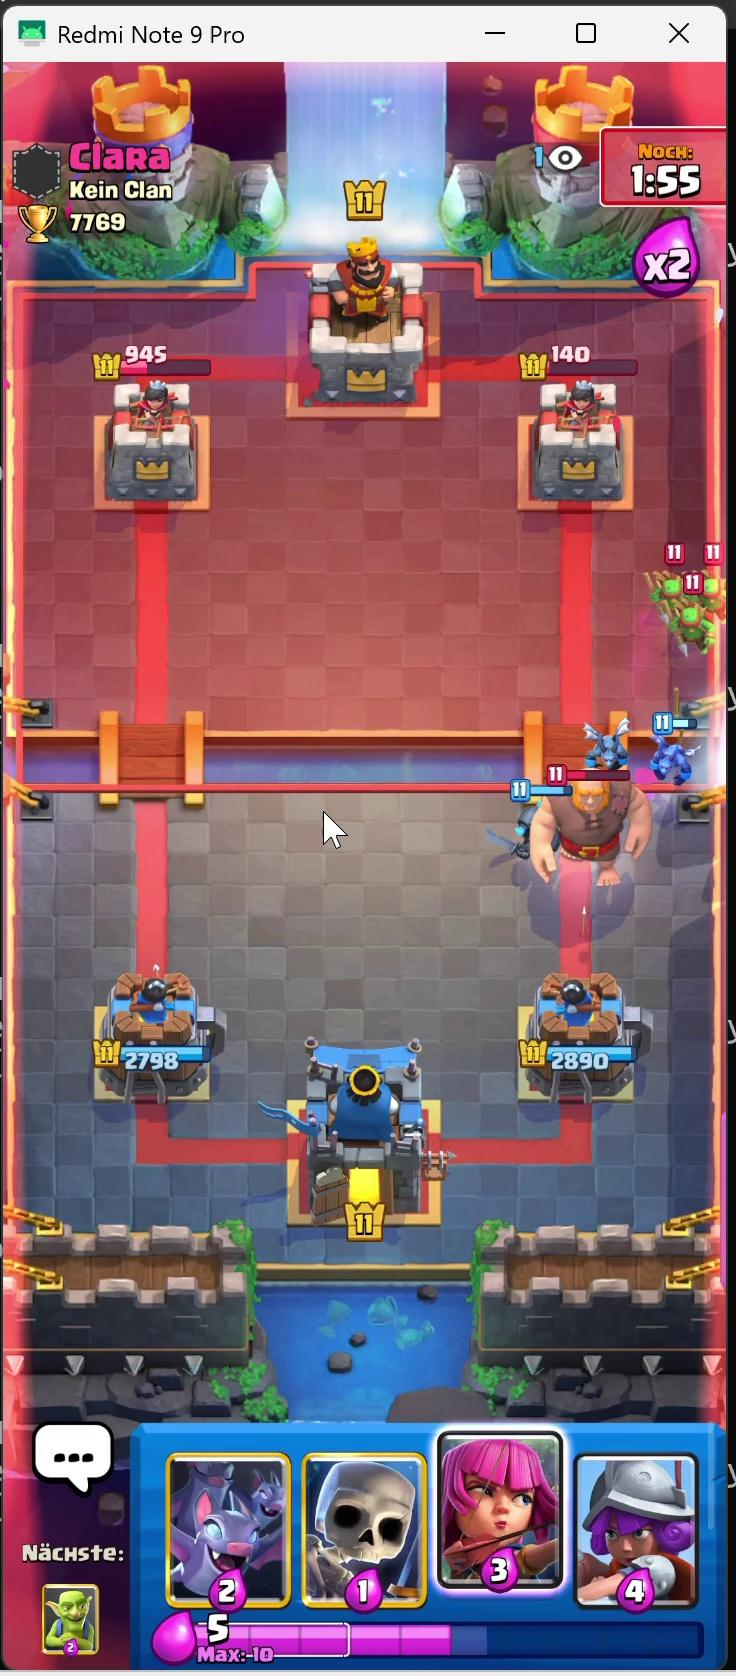gargouille: (651, 745, 700, 779), (590, 726, 625, 763)
geant: (539, 776, 654, 896)
gobelin_lances: (675, 604, 712, 651), (700, 562, 725, 619), (659, 565, 682, 615)
mini_PEKKA: (518, 801, 563, 865)
